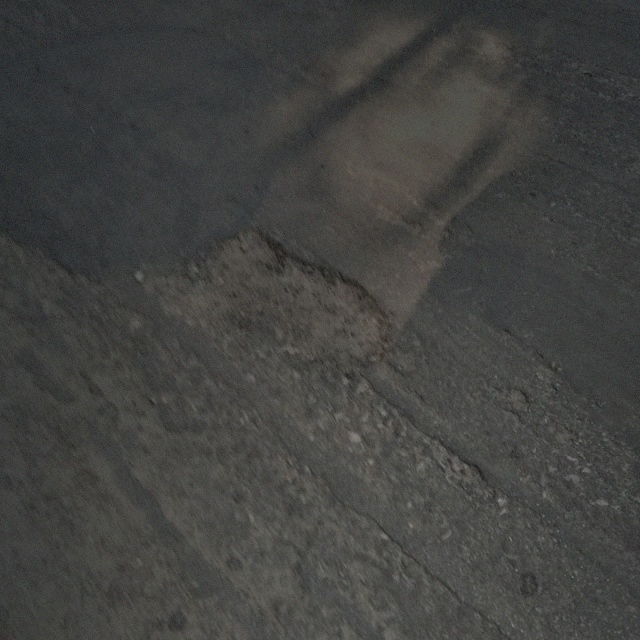pothole: (135, 224, 389, 373)
